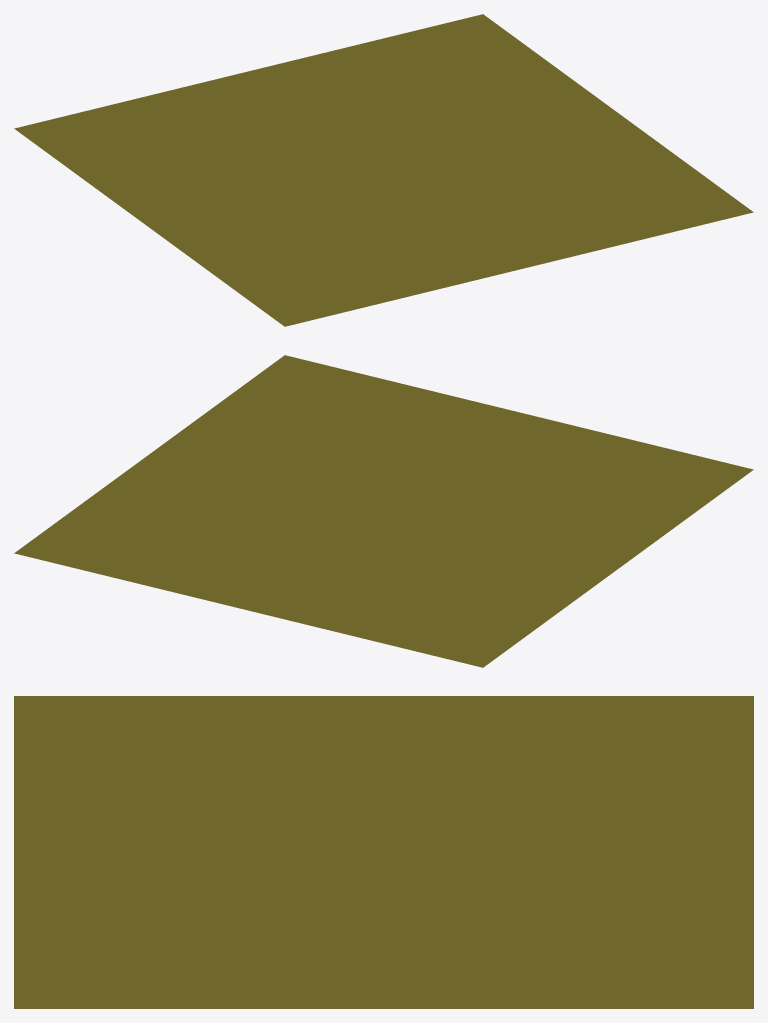
The picture shows the model from 3 angles, top to bottom: view 1: azimuth 30°, elevation 25°; view 2: azimuth 150°, elevation 25°; view 3: azimuth 270°, elevation 25°; orthographic projection. The views are drawn at different scales.
Size of the model in its own units: 1 by 0 by 1.
Materials: 1 (1 with a texture image).
